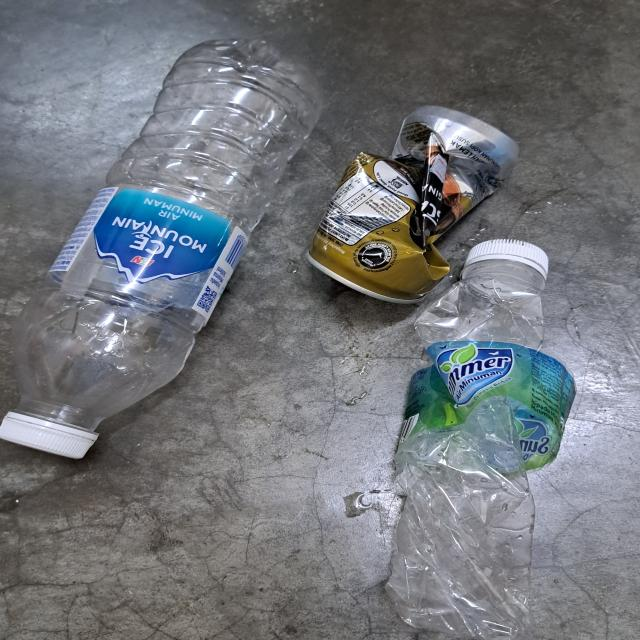can: (311, 109, 512, 310)
plastic bottle: (6, 44, 319, 432), (397, 280, 568, 640)
plastic bottle cap: (0, 410, 96, 460), (468, 238, 556, 276)
